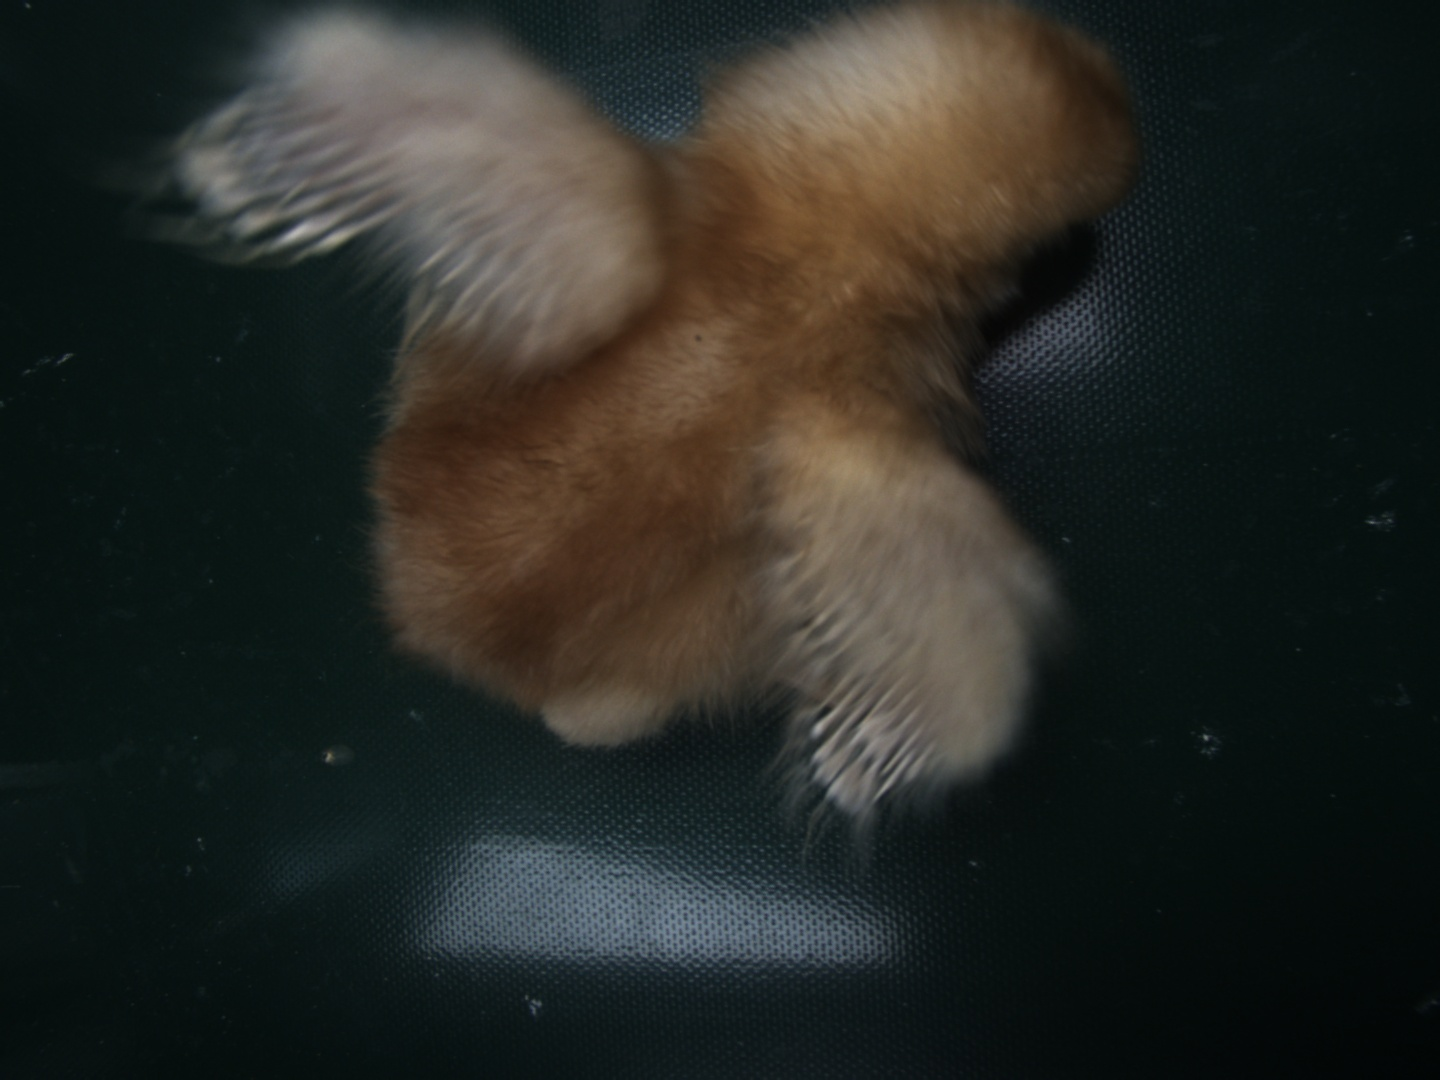female: (806, 656, 943, 816)
